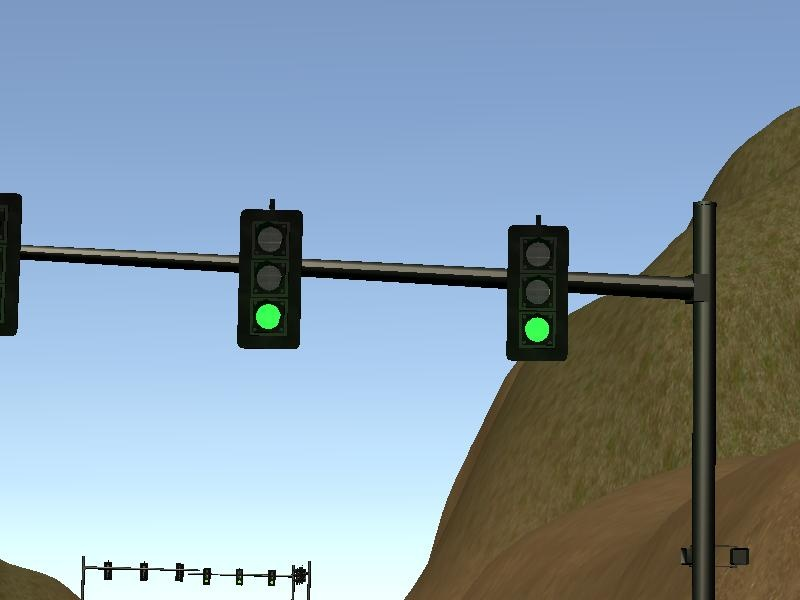GREEN: (238, 210, 301, 348), (506, 225, 568, 361)
